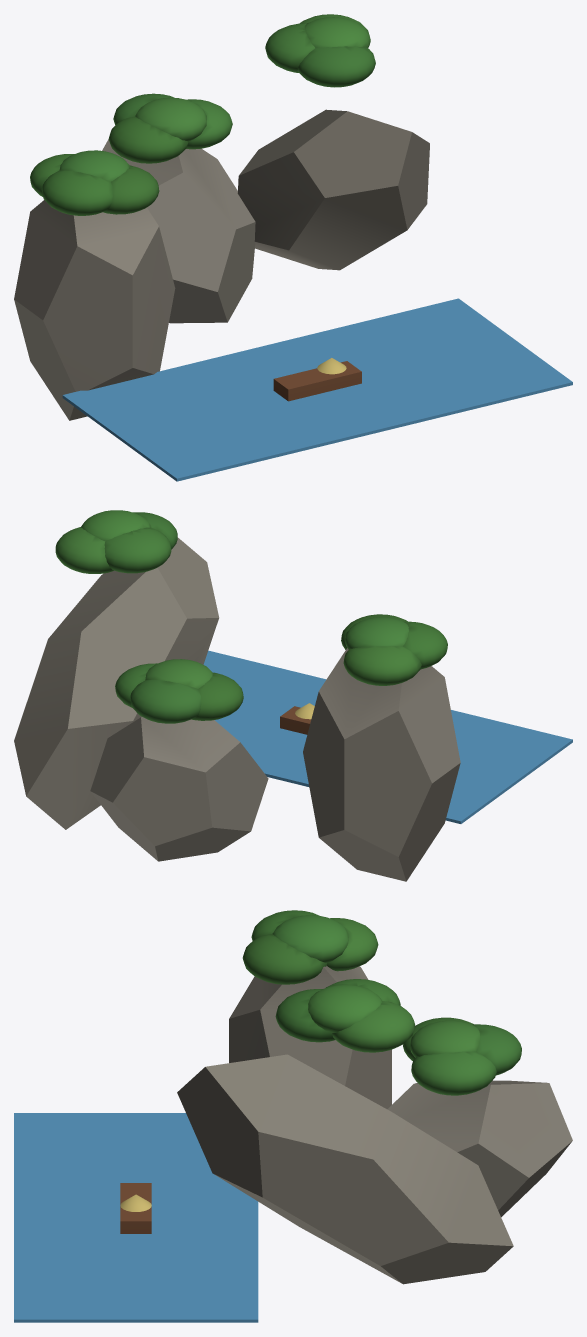
File: lm-trangan.glb
3 views of the same model, one above another, from view 1: azimuth 30°, elevation 25°; view 2: azimuth 150°, elevation 25°; view 3: azimuth 270°, elevation 25° (orthographic). The views are drawn at different scales.
Bounding box in the file's own units: 14.34 × 10.72 × 16.02.
